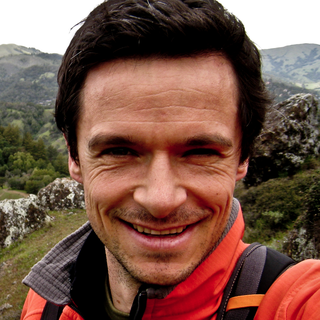eye: (176, 141, 224, 165), (94, 141, 144, 164)
